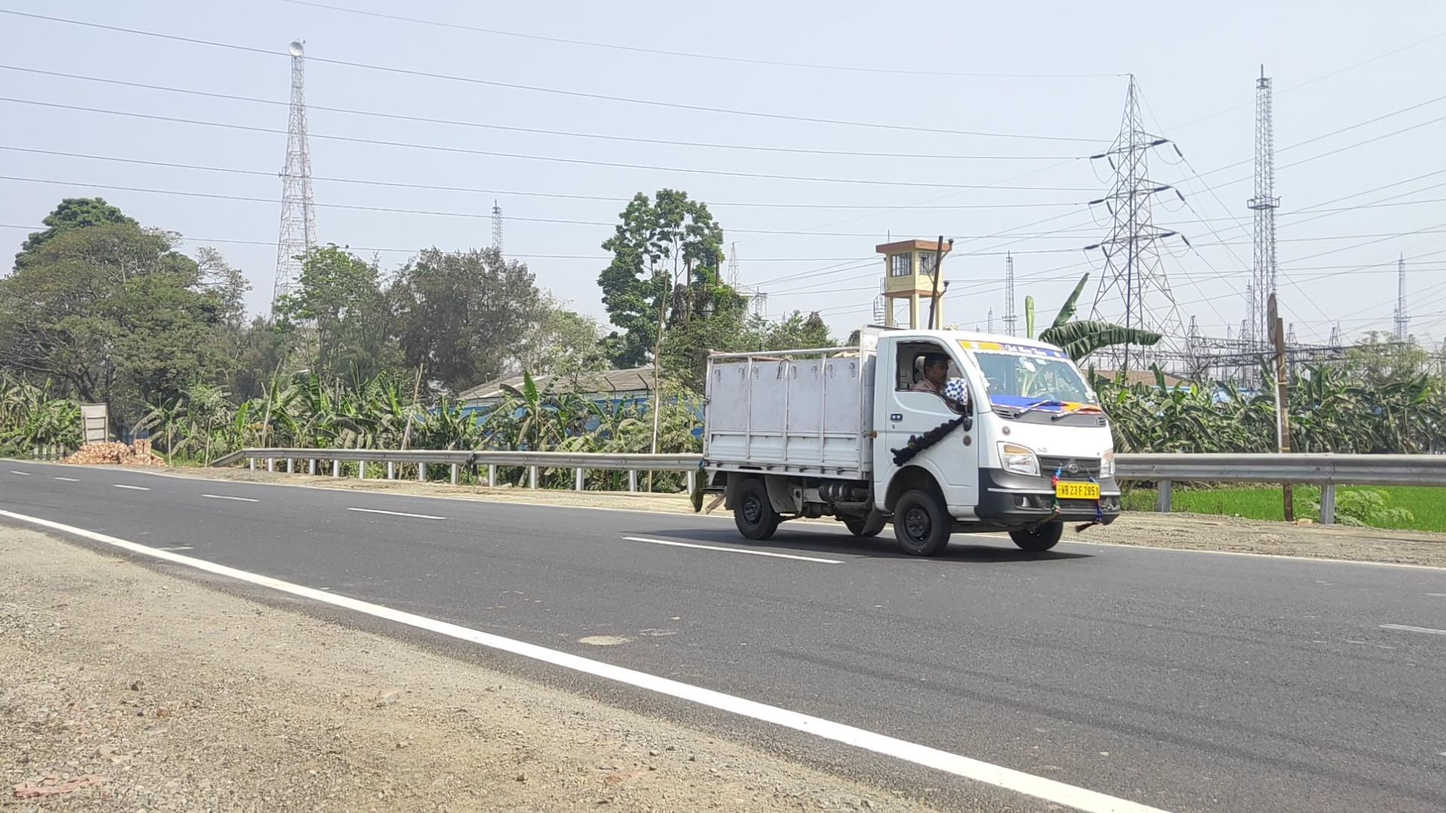van: (698, 323, 1123, 556)
